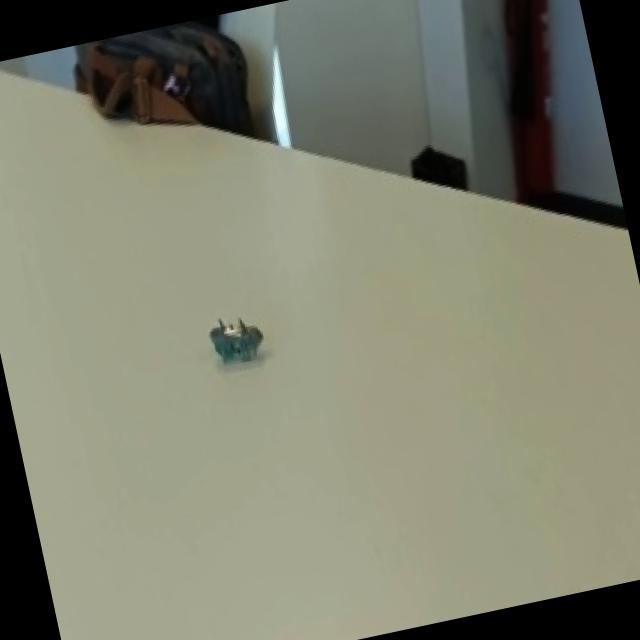5_NanoBug_GrisClaro: (182, 294, 300, 396)
